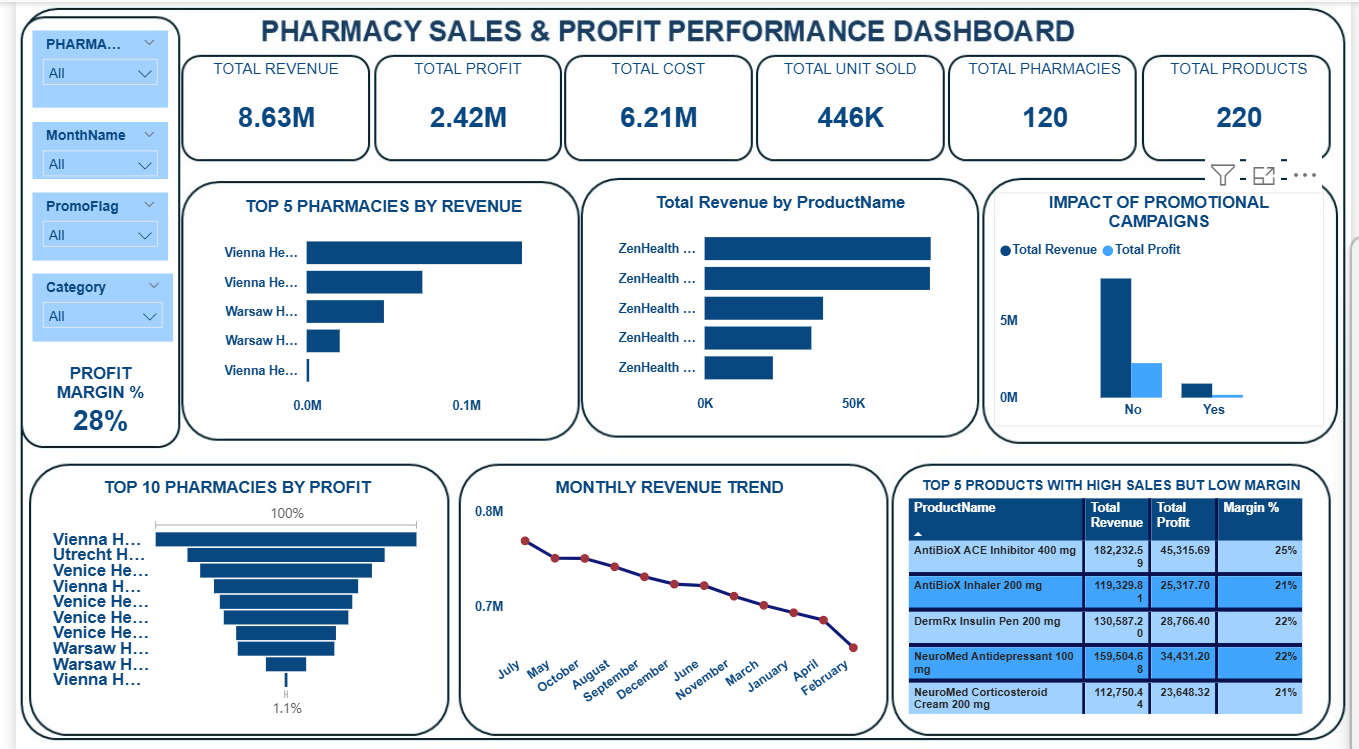

The page's visual inventory and layout, read from the dashboard file:
{"tool":"powerbi","page":{"name":"Page 1","canvas":[1280,720],"ordinal":0},"visuals":[{"type":"card","title":"PROFIT MARGIN %","fields":{"Values":["Measures (2).Profit Margin %"]},"box":[15.1,346.8,130.2,72.7],"z":0},{"type":"card","title":"TOTAL COST","fields":{"Values":["Measures (2).Total Cost"]},"box":[536,56,159,90.9],"z":1000},{"type":"card","title":"TOTAL PHARMACIES","fields":{"Values":["Measures (2).Total Pharmacies"]},"box":[904,56,163.5,90.9],"z":2000},{"type":"card","title":"TOTAL PRODUCTS","fields":{"Values":["Measures (2).Total Products"]},"box":[1091.7,56,162,90.9],"z":3000},{"type":"card","title":"TOTAL PROFIT","fields":{"Values":["Measures (2).Total Profit"]},"box":[352.8,56,162,90.9],"z":4000},{"type":"card","title":"TOTAL REVENUE","fields":{"Values":["Measures (2).Total Revenue"]},"box":[165,56,168.1,90.9],"z":5000},{"type":"card","title":"TOTAL UNIT SOLD","fields":{"Values":["Measures (2).Total Units Sold"]},"box":[720.8,56,159,90.9],"z":6000},{"type":"clusteredBarChart","title":"TOP 5 PHARMACIES BY REVENUE","fields":{"Category":["DimPharmacy.PharmacyName"],"Y":["Measures (2).Total Revenue"]},"box":[178.3,187,348,215.7],"z":7000},{"type":"funnel","title":"TOP 10 PHARMACIES BY PROFIT","fields":{"Category":["DimPharmacy.PharmacyName"],"Y":["Measures (2).Total Profit"]},"box":[30.3,455.8,363.4,234.7],"z":8000},{"type":"clusteredBarChart","fields":{"Category":["DimProduct.ProductName"],"Y":["Measures (2).Total Revenue"]},"box":[560.3,183.2,343.7,218],"z":9000},{"type":"lineChart","title":"MONTHLY REVENUE TREND","fields":{"Category":["DimDate.MonthName"],"Y":["Measures (2).Total Revenue"]},"box":[434.6,455.8,384.6,234.7],"z":10000},{"type":"clusteredColumnChart","title":"IMPACT OF PROMOTIONAL CAMPAIGNS","fields":{"Category":["FactSales.PromoFlag"],"Y":["Measures (2).Total Revenue","Measures (2).Total Profit"]},"box":[937.6,182.6,316.4,224.3],"z":11000},{"type":"tableEx","title":"TOP 5 PRODUCTS WITH HIGH SALES BUT LOW MARGIN","fields":{"Values":["DimProduct.ProductName","Measures (2).Total Revenue","Measures (2).Total Profit","Measures (2).Margin %"]},"box":[849.5,455.8,400,234],"z":12000},{"type":"slicer","fields":{"Values":["DimPharmacy.PharmacyType"]},"box":[15.1,27.3,130.2,74.2],"z":12001},{"type":"slicer","fields":{"Values":["DimDate.MonthName"]},"box":[15.1,115.1,130.2,54.5],"z":12002},{"type":"slicer","fields":{"Values":["FactSales.PromoFlag"]},"box":[15.1,183.2,130.2,65.1],"z":12003},{"type":"slicer","fields":{"Values":["DimProduct.Category"]},"box":[15.1,260.4,134.8,65.1],"z":12004}]}

Visuals, with their boxes in screenshot pixels (x1, y1, x2, y2), scaled from the page's 1280x720 canvas onto the 1359x749 screenshot:
"PROFIT MARGIN %" card: x1=16 y1=361 x2=154 y2=436
"TOTAL COST" card: x1=569 y1=58 x2=738 y2=153
"TOTAL PHARMACIES" card: x1=960 y1=58 x2=1133 y2=153
"TOTAL PRODUCTS" card: x1=1159 y1=58 x2=1331 y2=153
"TOTAL PROFIT" card: x1=375 y1=58 x2=547 y2=153
"TOTAL REVENUE" card: x1=175 y1=58 x2=354 y2=153
"TOTAL UNIT SOLD" card: x1=765 y1=58 x2=934 y2=153
"TOP 5 PHARMACIES BY REVENUE" clusteredBarChart: x1=189 y1=195 x2=559 y2=419
"TOP 10 PHARMACIES BY PROFIT" funnel: x1=32 y1=474 x2=418 y2=718
clusteredBarChart - DimProduct.ProductName x Measures (2).Total Revenue: x1=595 y1=191 x2=960 y2=417
"MONTHLY REVENUE TREND" lineChart: x1=461 y1=474 x2=870 y2=718
"IMPACT OF PROMOTIONAL CAMPAIGNS" clusteredColumnChart: x1=995 y1=190 x2=1331 y2=423
"TOP 5 PRODUCTS WITH HIGH SALES BUT LOW MARGIN" tableEx: x1=902 y1=474 x2=1327 y2=718
slicer - DimPharmacy.PharmacyType: x1=16 y1=28 x2=154 y2=106
slicer - DimDate.MonthName: x1=16 y1=120 x2=154 y2=176
slicer - FactSales.PromoFlag: x1=16 y1=191 x2=154 y2=258
slicer - DimProduct.Category: x1=16 y1=271 x2=159 y2=339
